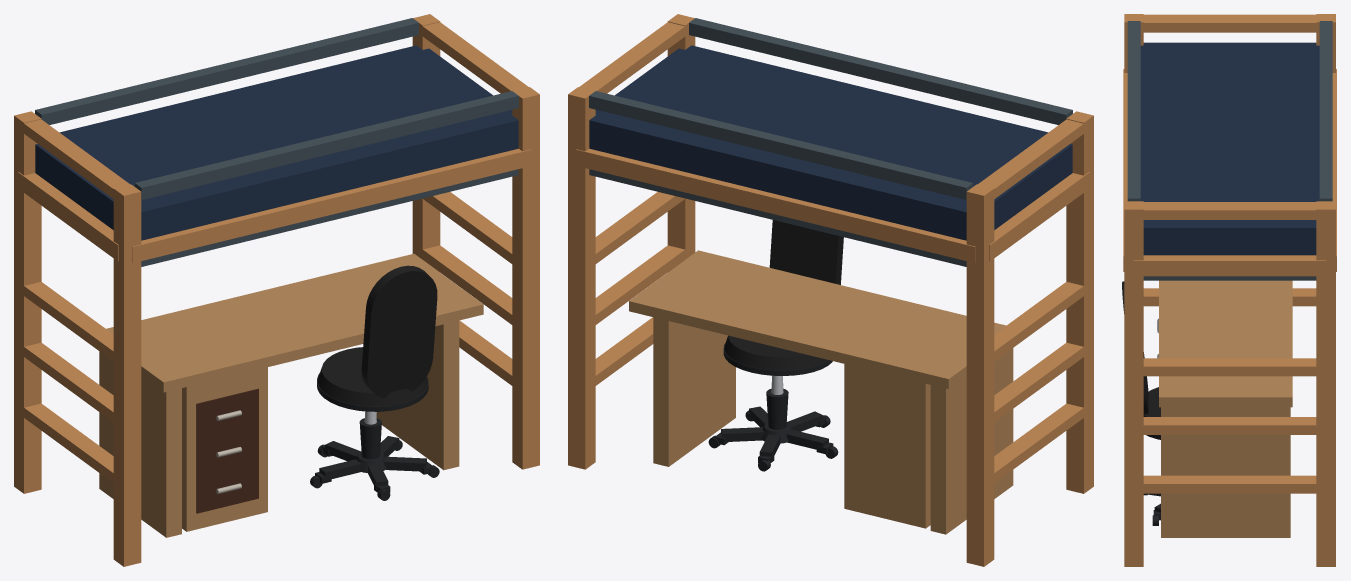
File: loft_bed_combo.glb
The picture shows the model from 3 angles, left to right: view 1: azimuth 30°, elevation 25°; view 2: azimuth 150°, elevation 25°; view 3: azimuth 270°, elevation 25°; orthographic projection. The views are drawn at different scales.
Bounding box in the file's own units: 2.16 × 1.84 × 0.9969.
